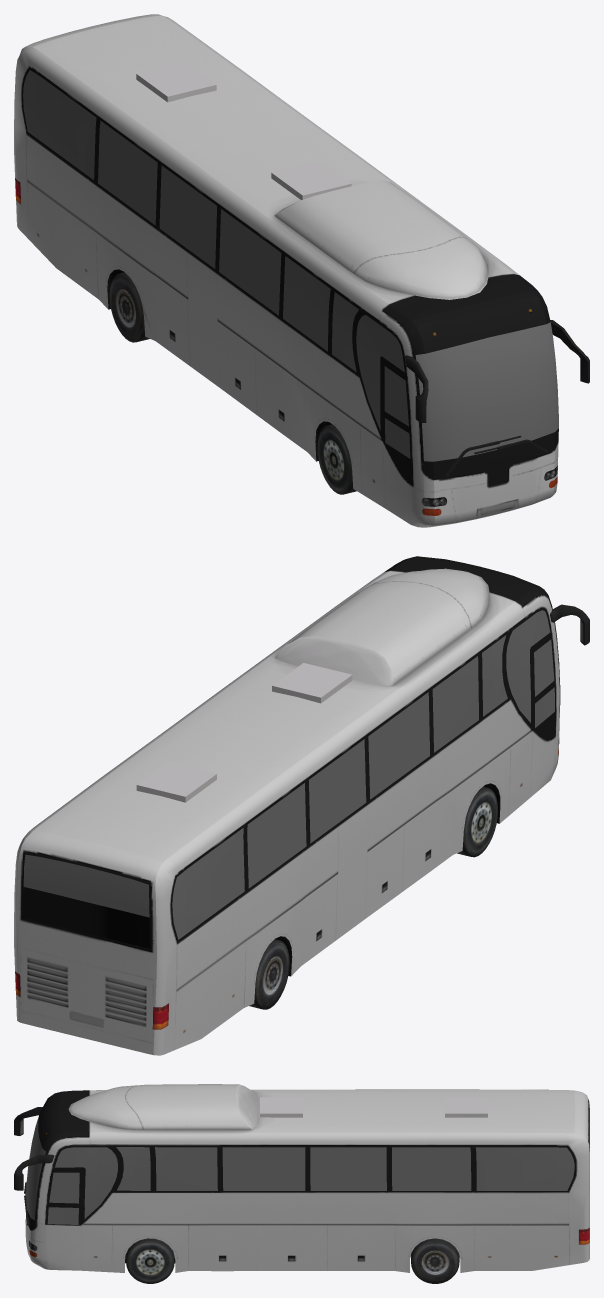
Rendered from Truck.glb.
The picture shows the model from 3 angles, top to bottom: view 1: azimuth 30°, elevation 25°; view 2: azimuth 150°, elevation 25°; view 3: azimuth 270°, elevation 25°; orthographic projection. The views are drawn at different scales.
Parts seen in each view (by area): view 1: SM_CP_Bus_01; view 2: SM_CP_Bus_01; view 3: SM_CP_Bus_01.
Boxes of the visible parts, x1=… form: SM_CP_Bus_01: x1=14, y1=14, x2=589, y2=527; SM_CP_Bus_01: x1=14, y1=556, x2=589, y2=1055; SM_CP_Bus_01: x1=14, y1=1084, x2=589, y2=1283.
Size of the model in its own units: 2.97 by 4.02 by 12.68.
1 material, 1 textured.
